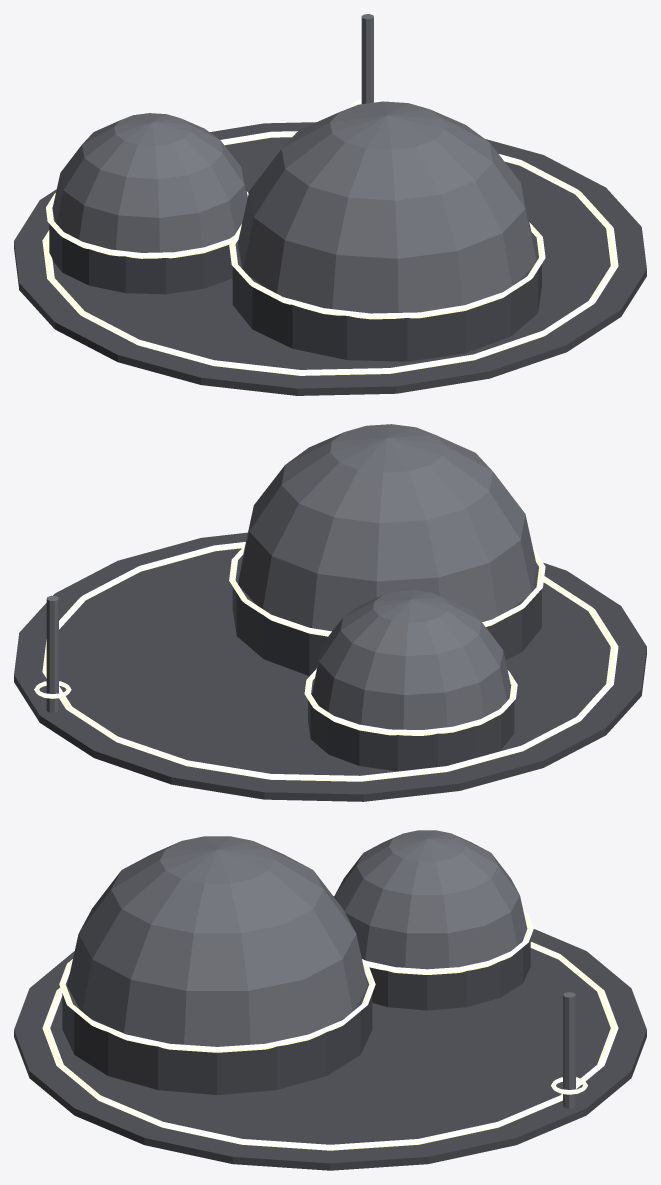
Rendered from zone_low_6_t1.glb.
3 renders of one model, top to bottom at view 1: azimuth 30°, elevation 25°; view 2: azimuth 150°, elevation 25°; view 3: azimuth 270°, elevation 25°, orthographic.
Visible parts, largest first — view 1: zone_low_6_t1, detail; view 2: zone_low_6_t1, detail; view 3: zone_low_6_t1, detail.
Part boxes in pixels (<box>): zone_low_6_t1: <box>14,101,646,395</box>; detail: <box>42,14,618,375</box>; zone_low_6_t1: <box>14,424,646,801</box>; detail: <box>34,542,618,781</box>; zone_low_6_t1: <box>14,830,646,1170</box>; detail: <box>42,942,618,1150</box>.
Bounding box in the file's own units: 19.6 × 6.4 × 19.6.
